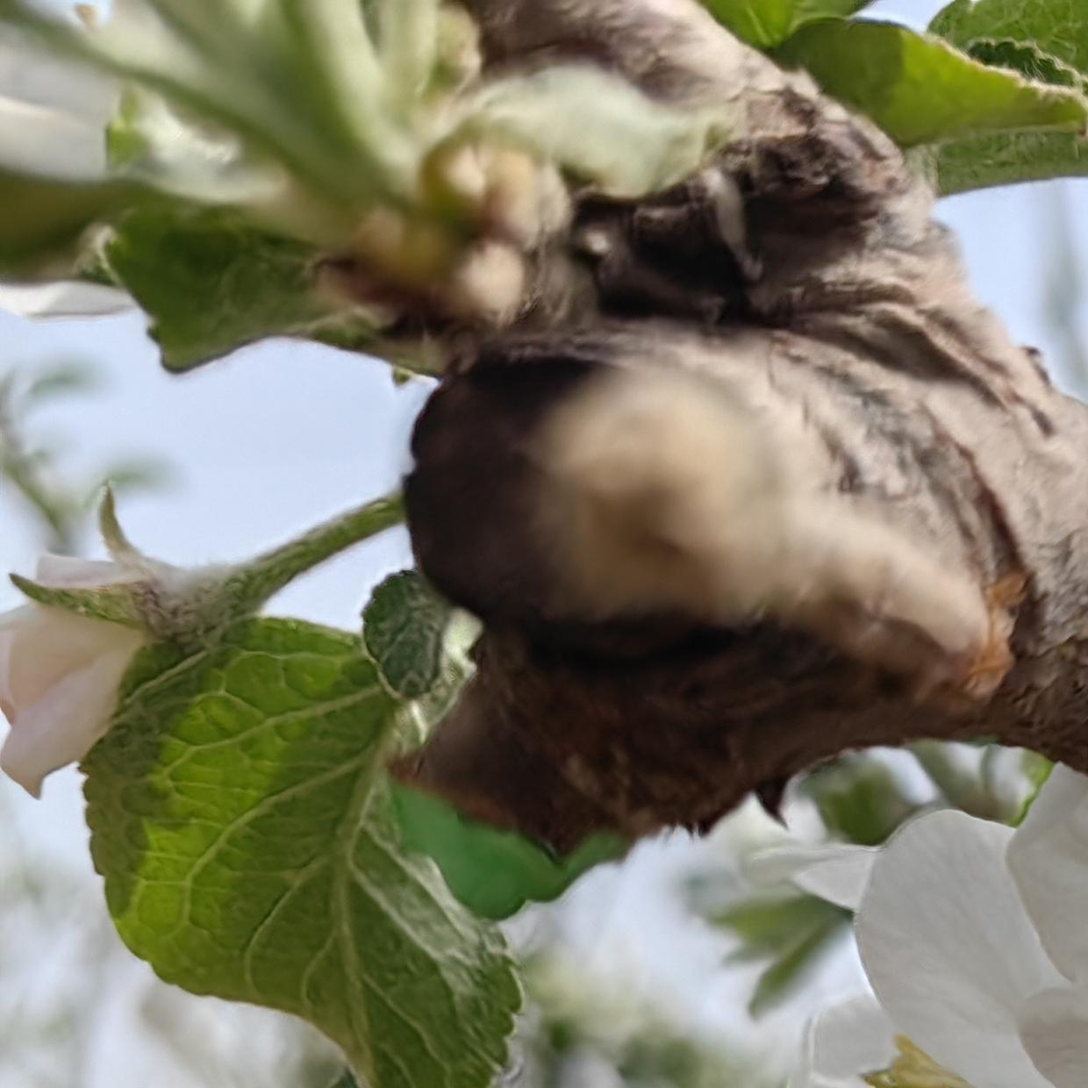apple_flower: (787, 768, 1088, 1088)
